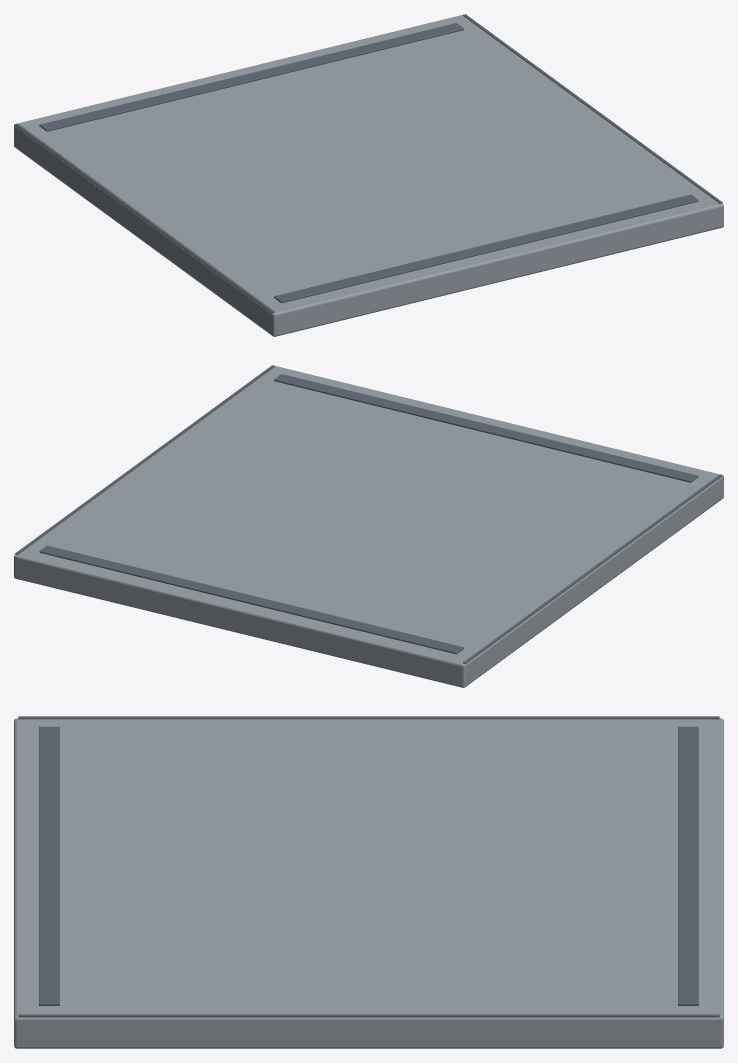
The model's file is 5_Floor.fbx.
3 renders of one model, top to bottom at view 1: azimuth 30°, elevation 25°; view 2: azimuth 150°, elevation 25°; view 3: azimuth 270°, elevation 25°, orthographic. The views are drawn at different scales.
Parts seen in each view (by area): view 1: Body; view 2: Body; view 3: Body.
Part boxes in pixels (x1,y1,x2,y2): Body: (14,14,723,336); Body: (14,365,723,687); Body: (14,716,723,1048).
Size of the model in its own units: 4 by 0.2145 by 4.
